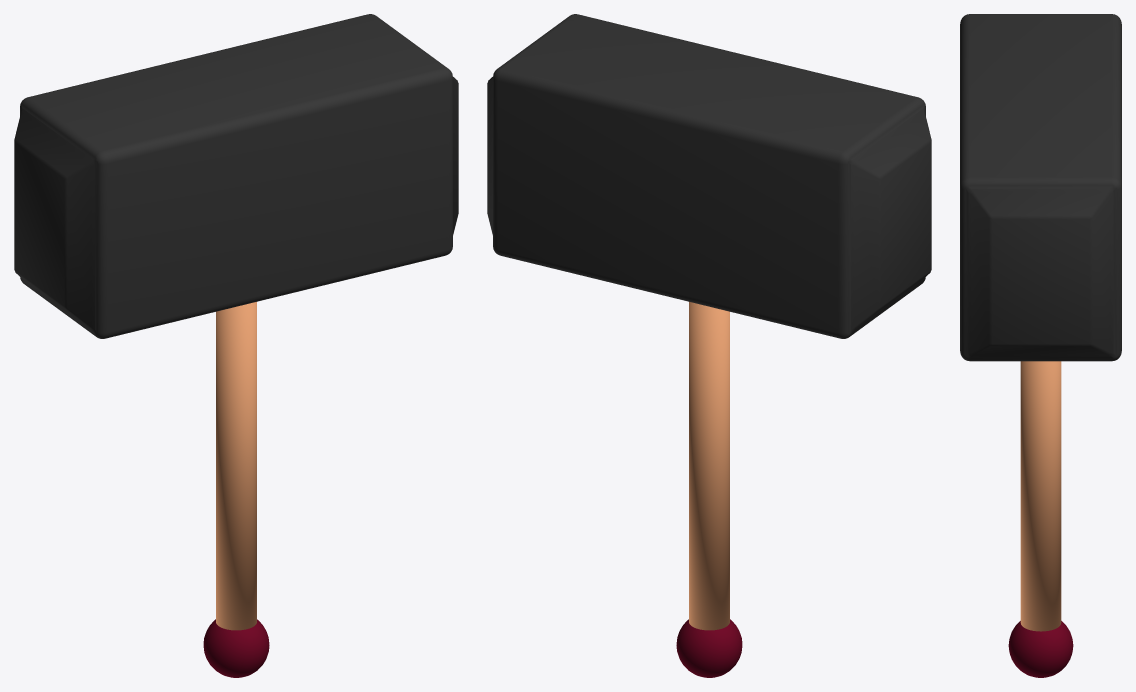
Rendered from HammerTMP.fbx.
3 views of the same model, side by side, from view 1: azimuth 30°, elevation 25°; view 2: azimuth 150°, elevation 25°; view 3: azimuth 270°, elevation 25° (orthographic). The views are drawn at different scales.
Visible parts, largest first — view 1: Hammer; view 2: Hammer; view 3: Hammer.
Boxes of the visible parts, box(x1,y1,x2,y2) form: Hammer: box(14, 14, 458, 677); Hammer: box(487, 14, 931, 677); Hammer: box(960, 14, 1121, 677).
Bounding box in the file's own units: 44.37 × 63.73 × 16.14.
